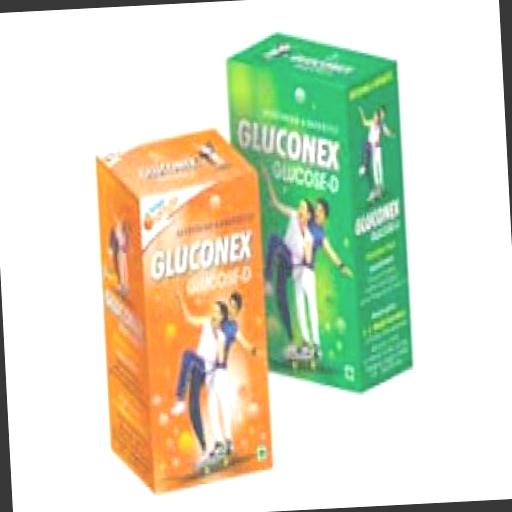cardboard: (222, 20, 412, 395), (94, 123, 272, 495)
